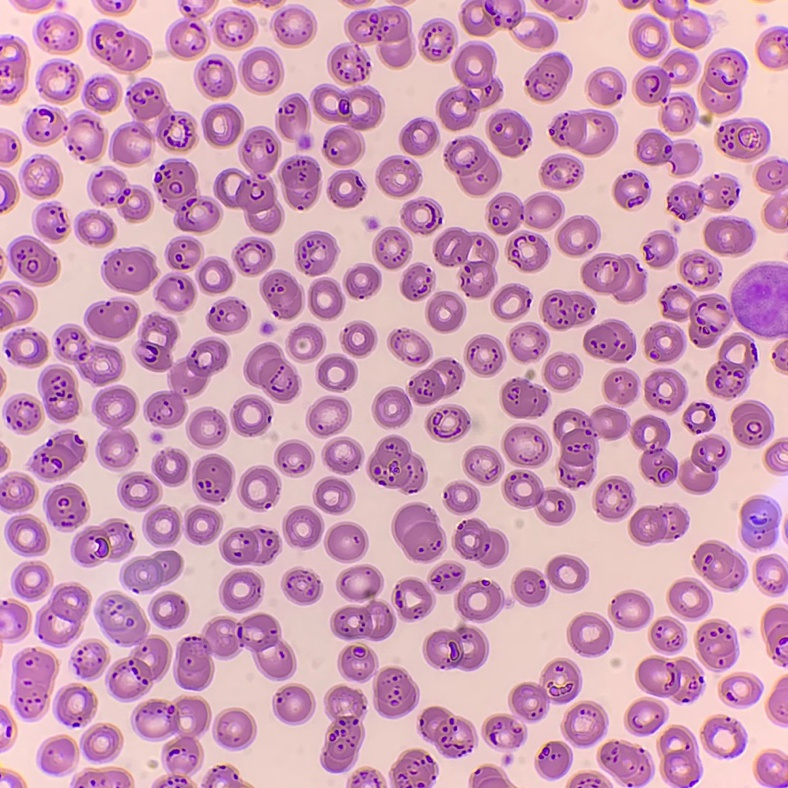RBC: (175, 614, 295, 689), (631, 416, 729, 493), (98, 594, 170, 698), (145, 338, 228, 427), (111, 78, 195, 163), (214, 127, 281, 233), (132, 698, 210, 787), (553, 407, 627, 487), (437, 44, 502, 129), (312, 84, 381, 164), (155, 159, 219, 231), (462, 0, 556, 47), (434, 227, 497, 297), (510, 660, 581, 720), (662, 285, 730, 347), (731, 265, 787, 338), (345, 7, 411, 66), (321, 686, 366, 772), (57, 325, 122, 384), (504, 470, 574, 524), (635, 50, 698, 102), (95, 386, 135, 467), (369, 436, 426, 492), (445, 136, 500, 194), (244, 343, 298, 402), (707, 333, 756, 397), (488, 193, 563, 234), (392, 503, 445, 561), (582, 253, 645, 301), (38, 586, 89, 644), (668, 177, 738, 219), (423, 625, 488, 670), (700, 49, 746, 112), (637, 129, 701, 174), (551, 111, 617, 154), (638, 657, 701, 702), (90, 22, 148, 70), (74, 519, 132, 566), (420, 707, 474, 756), (15, 651, 55, 717), (658, 726, 700, 787), (32, 431, 84, 480), (454, 519, 508, 566), (654, 1, 709, 47), (331, 601, 395, 640), (599, 741, 654, 786), (694, 541, 744, 590), (409, 359, 463, 404), (104, 247, 157, 292), (170, 0, 212, 56), (123, 551, 182, 590), (137, 314, 177, 371), (11, 237, 58, 285), (630, 506, 688, 544), (374, 668, 418, 718), (584, 320, 635, 362), (717, 118, 769, 159), (220, 528, 279, 564), (527, 53, 571, 101), (487, 109, 531, 156), (542, 290, 594, 329), (455, 580, 504, 621), (281, 157, 320, 208), (260, 270, 301, 318), (41, 368, 78, 421), (696, 620, 735, 670), (741, 495, 777, 548), (276, 94, 311, 148), (193, 454, 232, 502), (87, 301, 137, 338), (564, 702, 607, 745), (568, 613, 612, 655), (502, 378, 549, 417), (504, 426, 550, 465), (46, 484, 85, 530), (705, 217, 753, 254), (669, 578, 711, 620), (242, 47, 282, 91), (377, 156, 421, 196), (732, 401, 771, 446), (391, 749, 437, 787), (645, 369, 686, 411), (220, 571, 262, 612), (595, 476, 634, 520), (68, 112, 104, 159), (195, 54, 235, 96), (297, 232, 337, 274), (610, 590, 652, 630), (241, 466, 278, 510), (283, 507, 323, 547), (7, 515, 47, 555), (558, 216, 599, 255), (309, 397, 350, 436), (395, 579, 434, 620), (703, 717, 744, 756), (213, 709, 255, 747), (337, 565, 382, 600), (39, 62, 79, 101), (202, 106, 242, 145), (508, 232, 548, 271), (231, 395, 270, 435), (427, 291, 465, 332), (546, 555, 588, 592), (328, 44, 367, 83), (57, 686, 96, 725), (426, 406, 469, 441), (509, 323, 548, 361), (645, 323, 683, 362), (373, 387, 411, 426), (467, 335, 504, 375), (327, 524, 367, 561), (274, 8, 315, 44), (23, 156, 59, 197), (273, 686, 314, 722), (37, 16, 80, 50), (465, 446, 503, 484), (118, 472, 158, 508), (215, 11, 256, 46), (375, 227, 410, 268), (389, 330, 431, 364), (327, 170, 365, 207), (318, 354, 356, 391), (400, 119, 439, 155), (632, 17, 667, 57), (7, 330, 47, 365), (589, 67, 625, 105), (680, 251, 718, 287), (156, 274, 194, 310), (185, 506, 221, 544), (662, 92, 697, 131), (542, 154, 582, 188), (309, 278, 343, 318), (207, 298, 247, 332), (626, 700, 666, 734), (764, 605, 787, 664), (236, 238, 273, 274), (189, 408, 225, 445), (421, 22, 456, 60), (485, 715, 525, 748), (325, 438, 362, 473), (315, 478, 352, 513), (284, 569, 321, 604), (403, 199, 441, 233), (6, 395, 40, 433), (0, 473, 34, 511), (82, 727, 121, 760), (26, 109, 66, 141), (91, 168, 127, 203), (614, 171, 649, 207), (153, 449, 188, 485), (151, 592, 187, 627), (338, 646, 374, 681), (536, 741, 571, 777), (493, 284, 530, 318), (275, 440, 313, 473), (146, 506, 179, 544), (289, 324, 324, 359), (545, 354, 579, 390), (514, 569, 547, 606), (197, 258, 232, 292), (758, 26, 787, 67), (344, 264, 380, 297), (15, 562, 48, 598), (77, 213, 115, 244), (756, 555, 787, 593), (84, 77, 118, 111), (342, 321, 376, 355), (401, 264, 434, 299), (73, 643, 106, 678), (651, 617, 683, 653), (721, 676, 760, 705), (40, 739, 74, 772), (0, 58, 26, 101), (604, 370, 637, 403), (2, 284, 33, 319), (166, 237, 199, 269), (646, 231, 675, 267), (445, 483, 479, 513), (430, 563, 464, 593), (757, 753, 787, 787), (0, 603, 27, 640), (756, 159, 787, 191), (36, 206, 65, 239), (123, 186, 150, 221), (74, 770, 128, 787), (683, 403, 714, 432), (203, 766, 242, 787), (472, 766, 511, 787), (769, 678, 787, 722), (765, 438, 787, 471), (538, 0, 579, 17), (765, 197, 787, 228), (350, 769, 384, 787), (569, 773, 611, 787), (0, 171, 16, 203), (98, 0, 131, 12), (0, 299, 14, 327), (0, 139, 16, 161), (775, 347, 787, 370), (18, 0, 48, 9), (623, 0, 645, 8), (0, 447, 7, 469), (261, 322, 272, 333), (16, 42, 25, 55), (348, 0, 365, 5), (702, 115, 711, 124), (261, 0, 277, 5), (367, 218, 375, 226), (0, 710, 6, 720), (0, 740, 6, 750), (12, 781, 21, 787), (154, 782, 164, 787), (0, 39, 5, 47), (677, 0, 685, 4)
